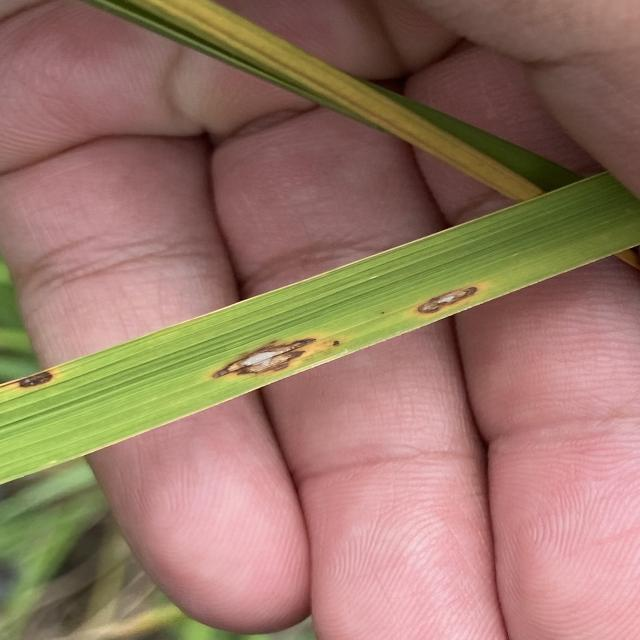Dao on: (212, 338, 315, 378), (417, 286, 478, 314)
